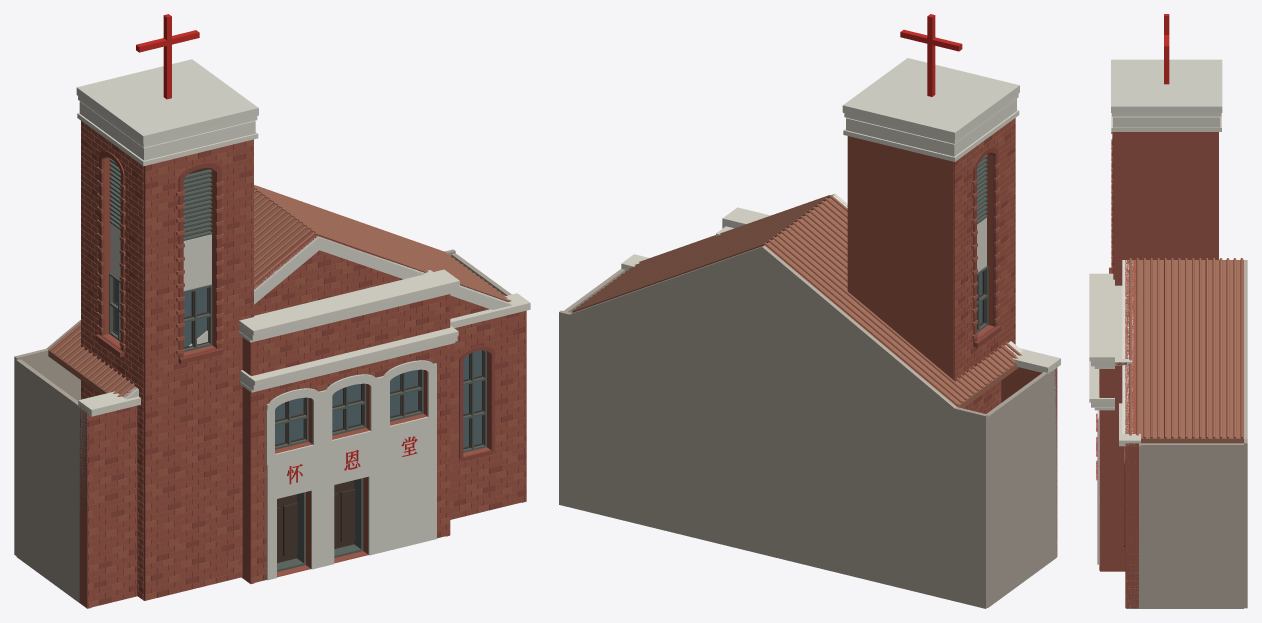
File: jingan-grace-church-street-front-raw.glb
3 renders of one model, left to right at view 1: azimuth 30°, elevation 25°; view 2: azimuth 150°, elevation 25°; view 3: azimuth 270°, elevation 25°, orthographic. The views are drawn at different scales.
Visible parts, largest first — view 1: 怀恩堂陕西北路入口与东南角砖塔; view 2: 怀恩堂陕西北路入口与东南角砖塔; view 3: 怀恩堂陕西北路入口与东南角砖塔.
Part boxes in pixels (x1=…): 怀恩堂陕西北路入口与东南角砖塔: x1=14, y1=14, x2=530, y2=608; 怀恩堂陕西北路入口与东南角砖塔: x1=559, y1=14, x2=1060, y2=608; 怀恩堂陕西北路入口与东南角砖塔: x1=1089, y1=14, x2=1247, y2=608.
Size of the model in its own units: 12.24 by 14.64 by 4.59.
